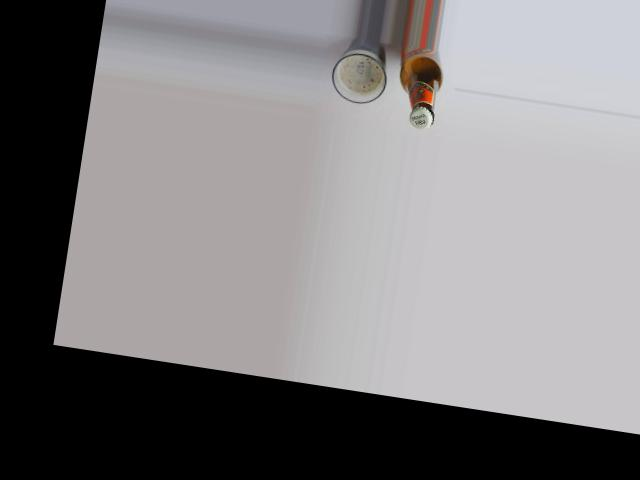beer: (389, 43, 446, 130)
